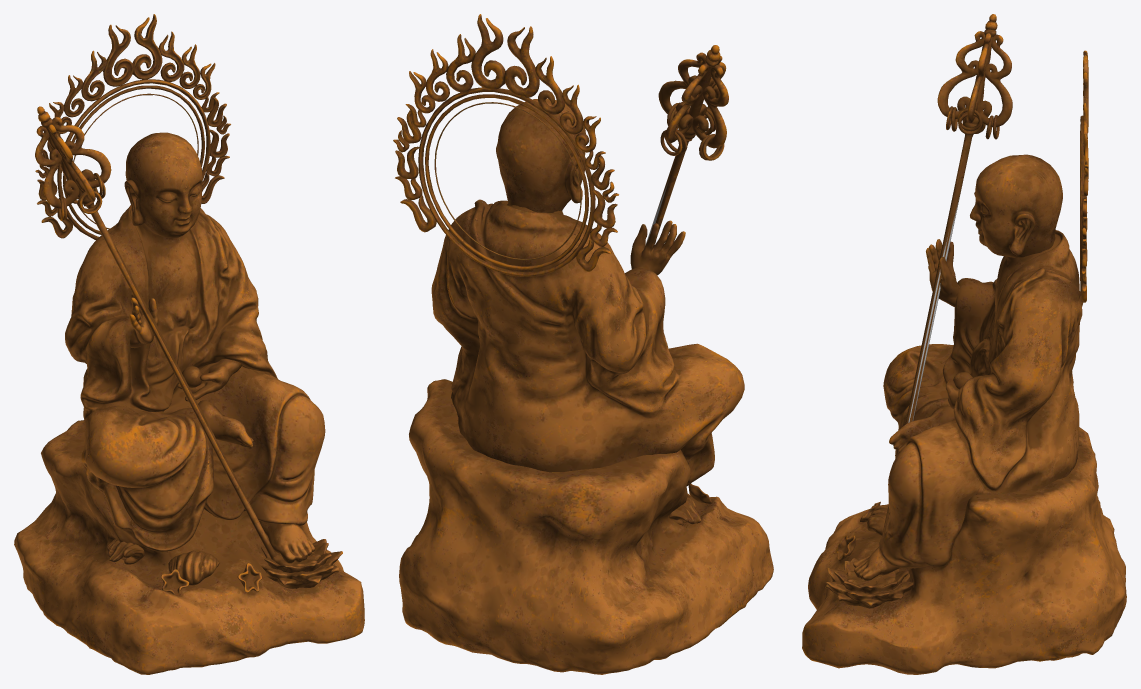
The model's file is dia-tang.glb.
3 views of the same model, side by side, from view 1: azimuth 30°, elevation 25°; view 2: azimuth 150°, elevation 25°; view 3: azimuth 270°, elevation 25° (orthographic). The views are drawn at different scales.
Parts seen in each view (by area): view 1: diZangPuSa_v2022-HiPory-4K-MaterialTest; view 2: diZangPuSa_v2022-HiPory-4K-MaterialTest; view 3: diZangPuSa_v2022-HiPory-4K-MaterialTest.
Boxes of the visible parts, box(x1,y1,x2,y2) form: diZangPuSa_v2022-HiPory-4K-MaterialTest: box(14, 14, 364, 674); diZangPuSa_v2022-HiPory-4K-MaterialTest: box(393, 14, 773, 674); diZangPuSa_v2022-HiPory-4K-MaterialTest: box(802, 14, 1126, 674).
Bounding box in the file's own units: 0.5272 × 1 × 0.529.
Materials: 1 (1 with a texture image).
